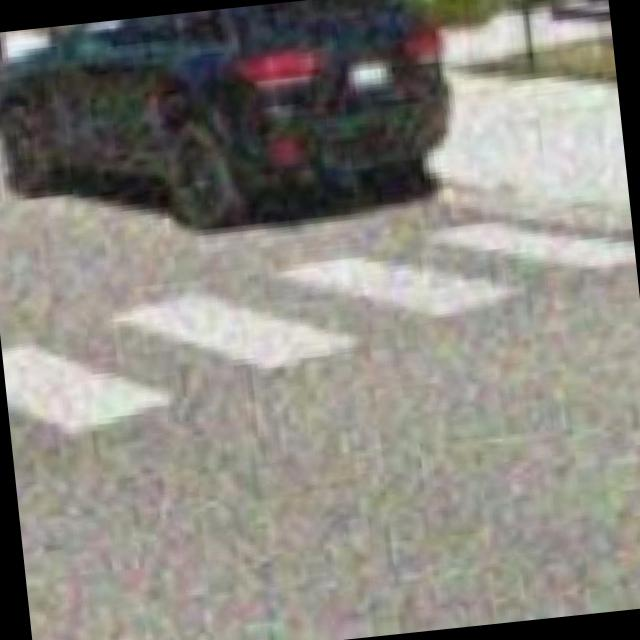zebra: (5, 182, 634, 489)
